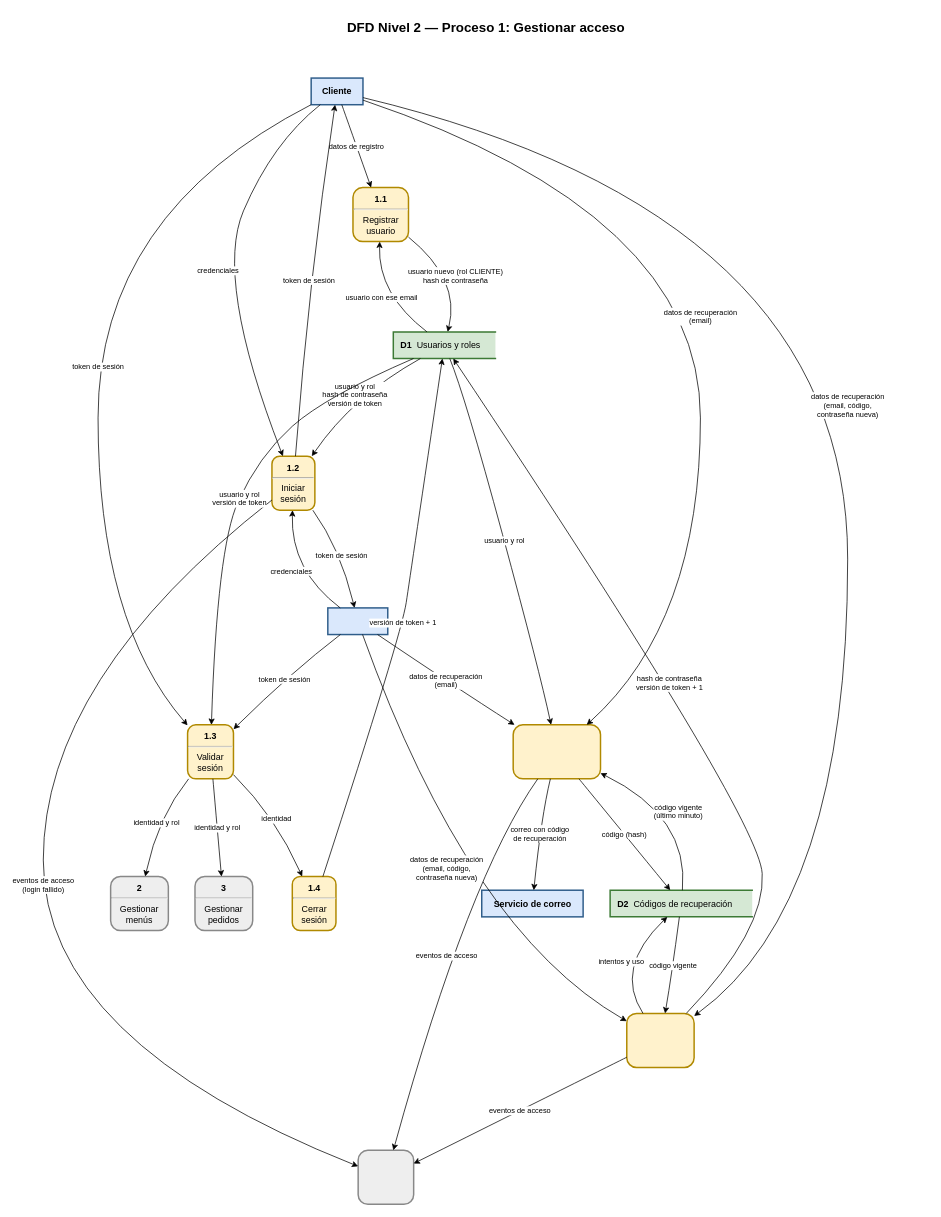
The diagram is 941 pixels wide and 1217 high, and some of its shapes have lost their labels. The centre of each missing label's shape, as x and y in pixels:
1.5 Emitir código de recuperación: [556,751]
1.6 Restablecer contraseña: [660,1040]
5 Registrar eventos: [385,1177]
Cocinero: [357,621]
